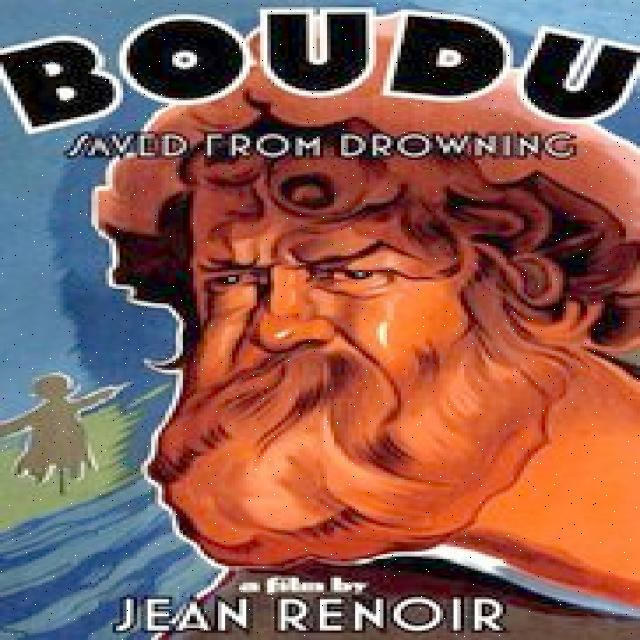movie-judul: (2, 0, 640, 130)
picture: (50, 151, 640, 577)
